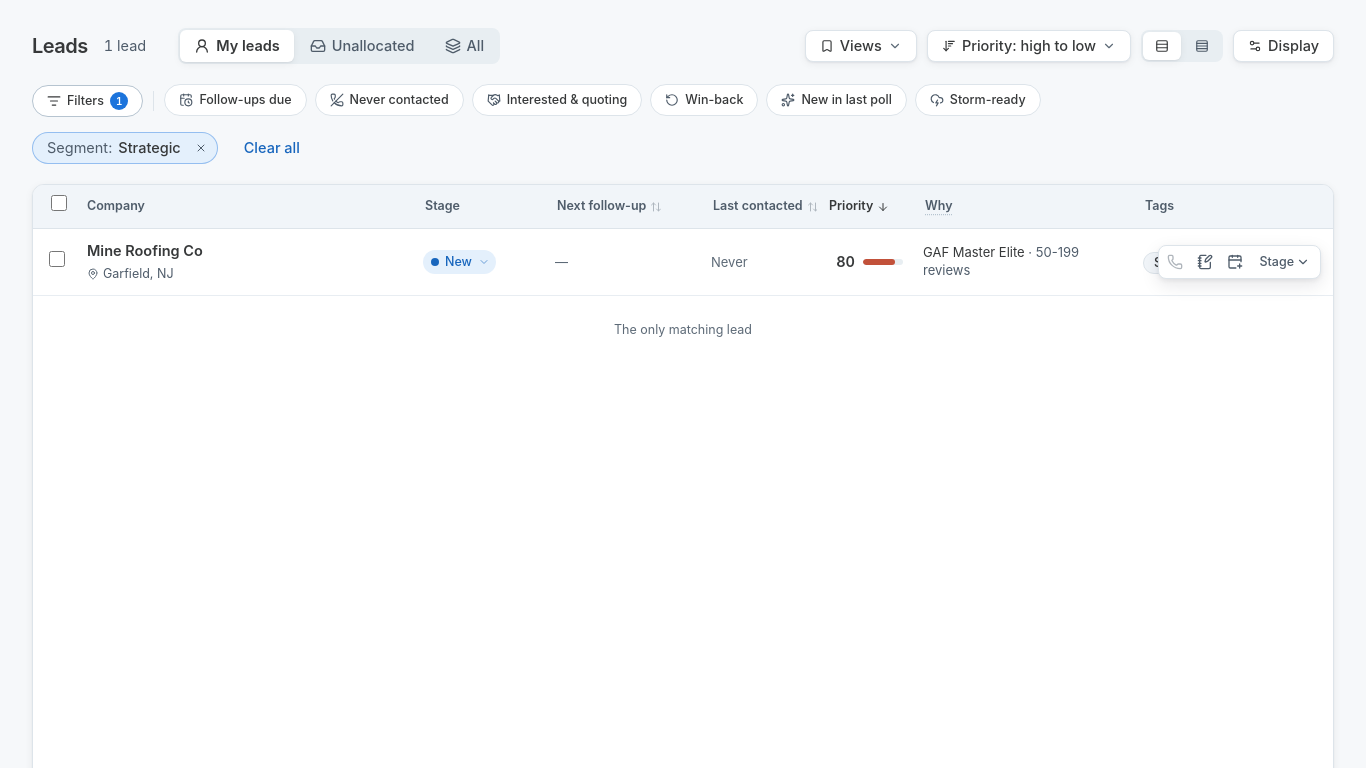
Test: saving and renaming views › shows a server name clash inline and keeps the dialog open
The width and height of the screenshot is (1366, 768).
Click the button with aria-label "Saved views" at (861, 46), box [805, 30, 917, 62]
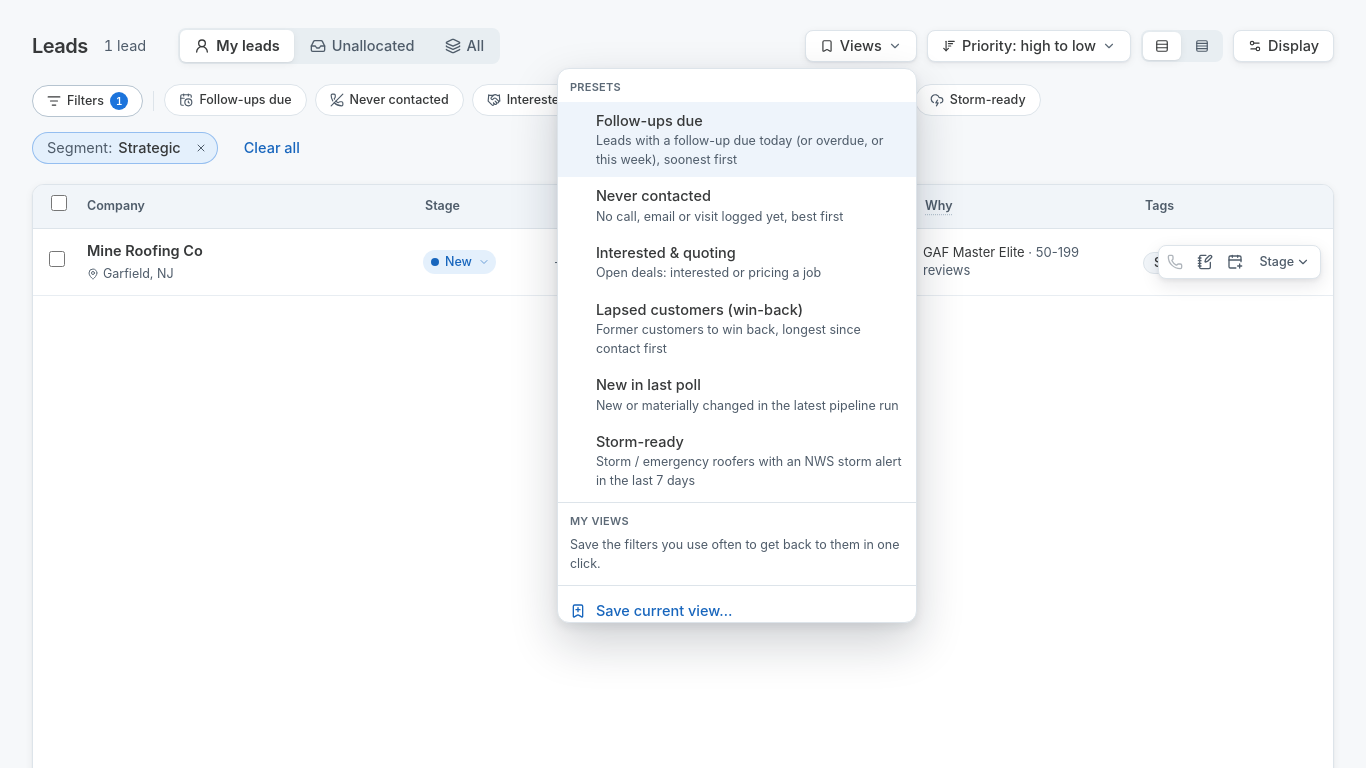
Click the button "Save current view…" at (664, 610), box [564, 592, 910, 630]
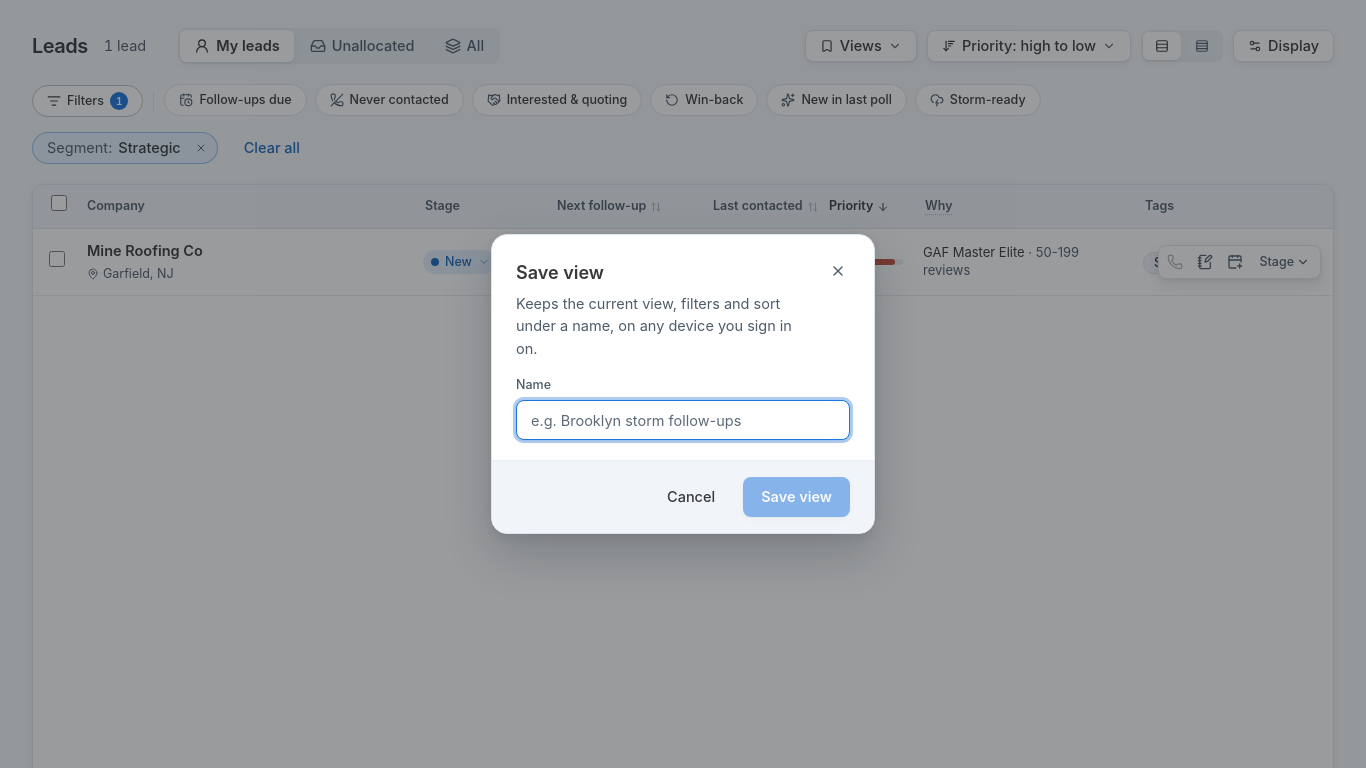
Type "Strategic" into the field labelled "Name" at (683, 420), box [516, 400, 850, 440]
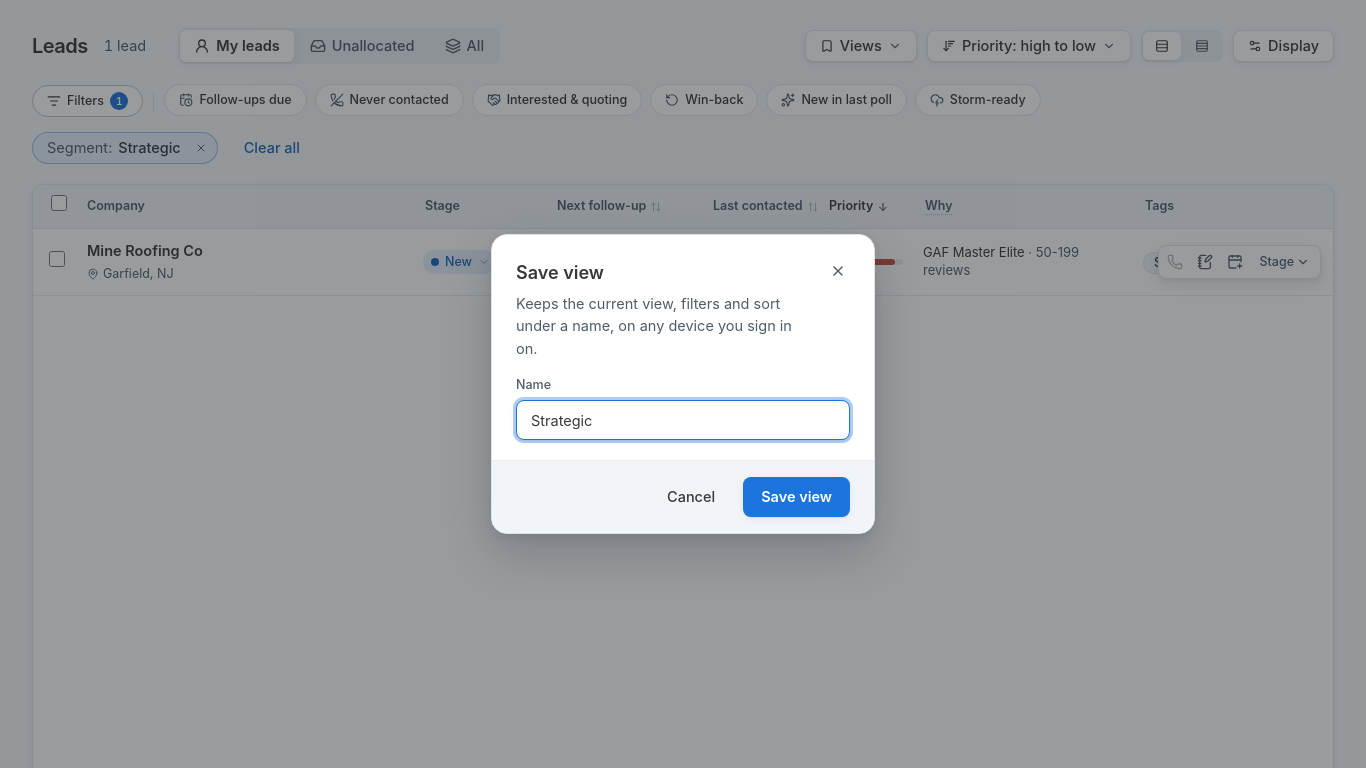
Click the button "Save view" at (797, 497), box [743, 477, 850, 517]
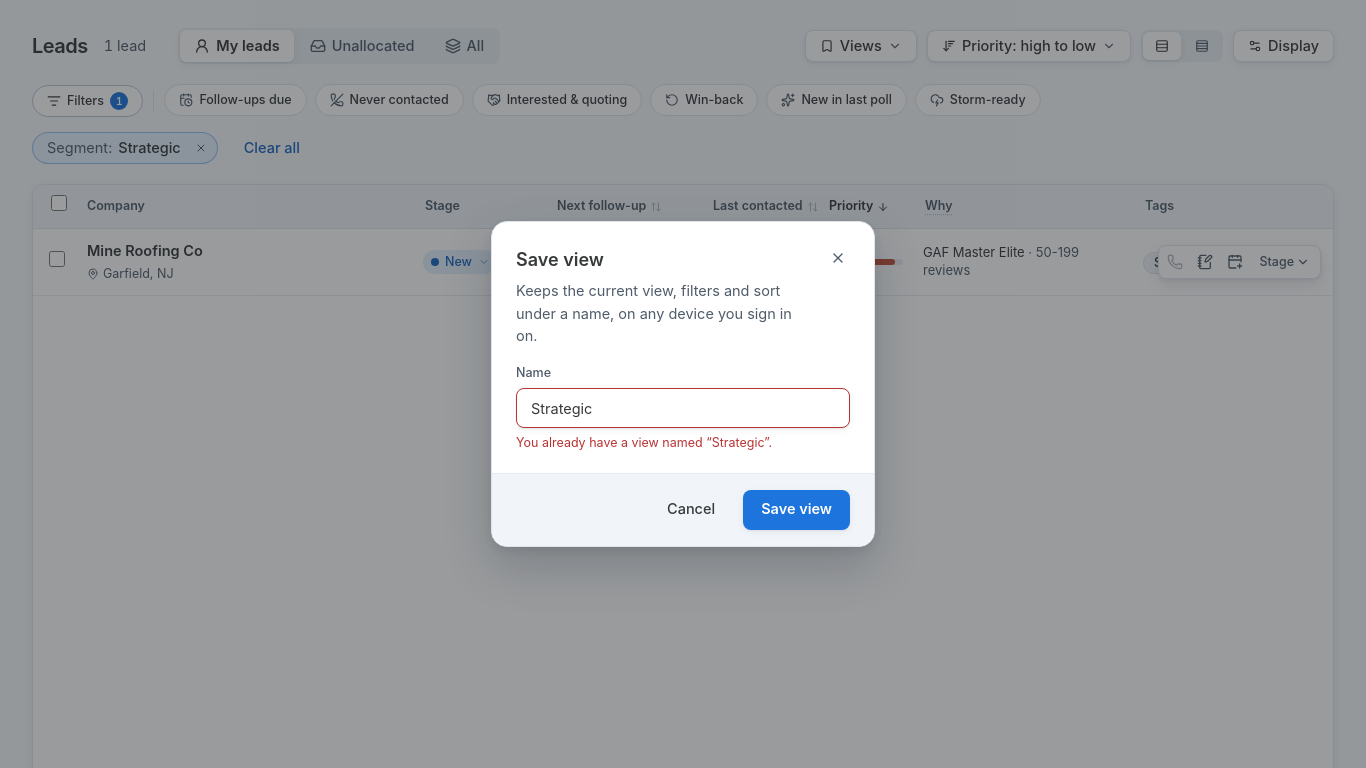
Now the message reads "You already have a view named “Strategic”.", box [516, 435, 772, 450]
